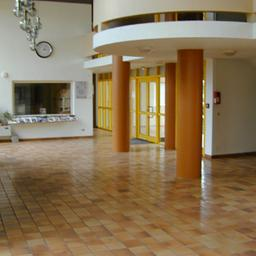Matera: (2, 114, 13, 138)
Puerta: (140, 77, 160, 140)
